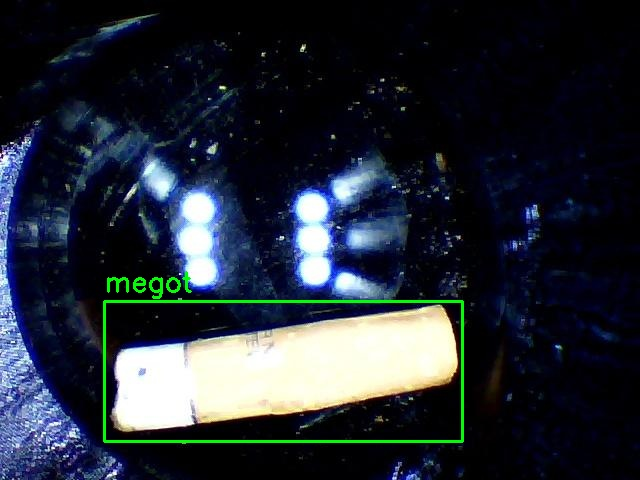megot: (104, 301, 462, 441)
